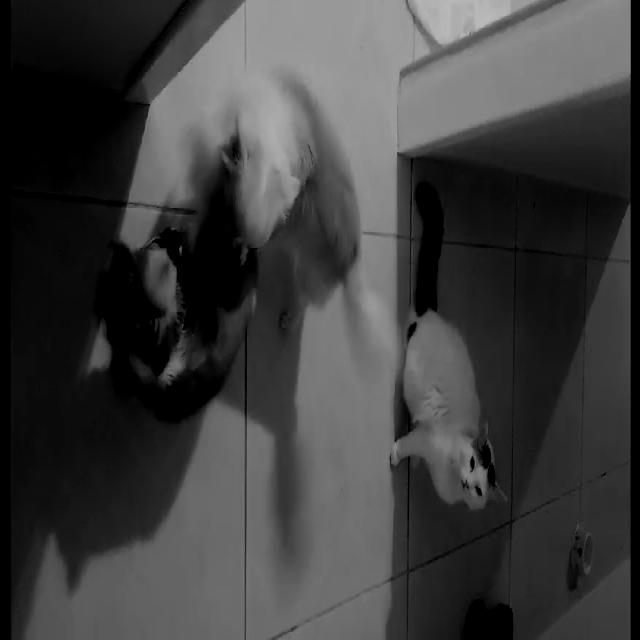Pedrita: (92, 173, 270, 447)
